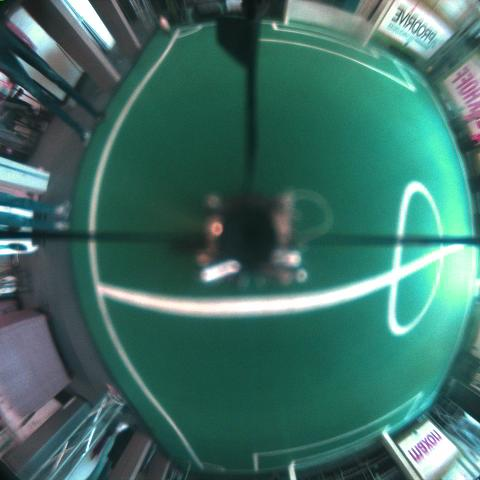ball: (159, 16, 171, 34), (425, 66, 433, 73)
goal: (383, 432, 420, 479), (361, 0, 393, 47), (284, 0, 292, 25), (288, 465, 296, 479)
person: (0, 20, 108, 151), (0, 192, 71, 220), (0, 211, 70, 231)
robot: (449, 111, 479, 133), (457, 133, 479, 154)
